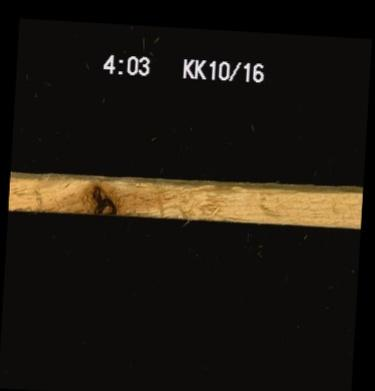wave: (9, 170, 362, 191)
